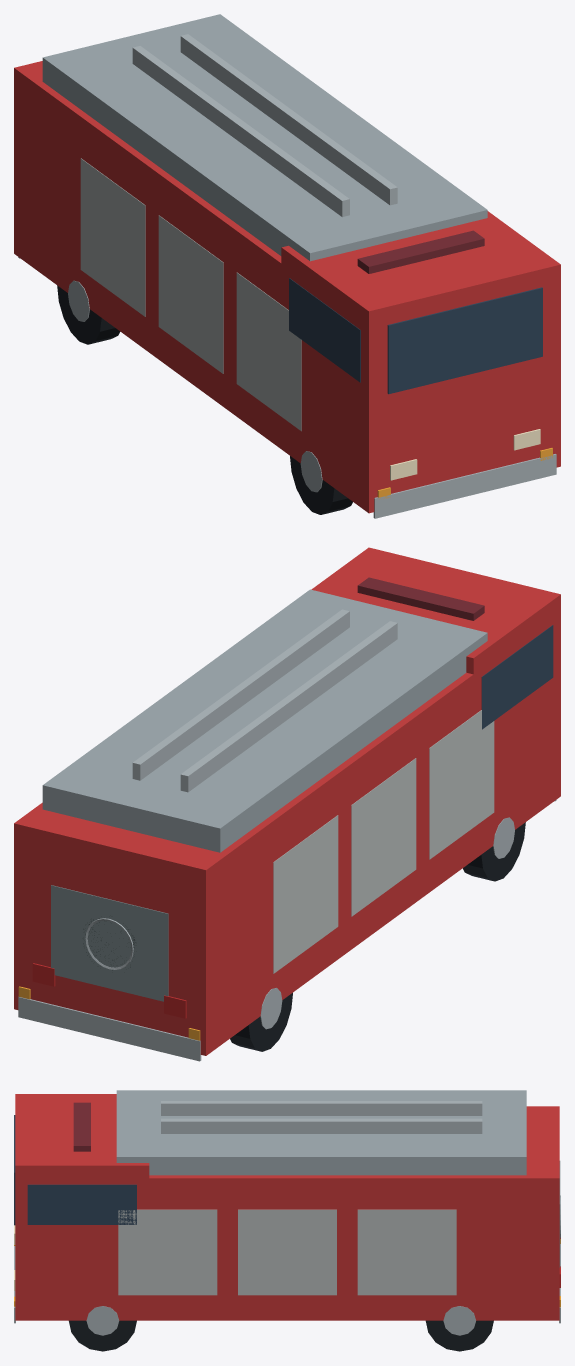
The model's file is npc_fire_engine_lod1.glb.
The picture shows the model from 3 angles, top to bottom: view 1: azimuth 30°, elevation 25°; view 2: azimuth 150°, elevation 25°; view 3: azimuth 270°, elevation 25°; orthographic projection. The views are drawn at different scales.
Parts seen in each view (by area): view 1: body, equipment_deck, cab, windshield, shutter_1_R, shutter_2_R, shutter_0_R, ladder_rail_L, ladder_rail_R, front_bumper, crew_glass_R, beacon_bar (+4 smaller); view 2: body, equipment_deck, cab, hose_recess, shutter_2_R, shutter_1_R, shutter_0_R, ladder_rail_L, ladder_rail_R, rear_bumper, crew_glass_R, beacon_bar (+4 smaller); view 3: body, equipment_deck, cab, shutter_2_L, shutter_1_L, shutter_0_L, ladder_rail_L, ladder_rail_R, crew_glass_L, wheel_R_L_tire, wheel_F_L_tire, beacon_bar (+2 smaller).
Part boxes in pixels (x1,y1,x2,y2): body: (14, 61, 560, 513); equipment_deck: (42, 14, 487, 261); cab: (281, 211, 560, 512); windshield: (387, 287, 542, 394); shutter_1_R: (158, 215, 223, 373); shutter_2_R: (80, 158, 145, 316); shutter_0_R: (236, 272, 301, 431); ladder_rail_L: (180, 34, 397, 205); ladder_rail_R: (132, 46, 349, 216); front_bumper: (373, 454, 556, 518); crew_glass_R: (289, 278, 360, 382); beacon_bar: (357, 230, 484, 273); body: (14, 611, 560, 1055); equipment_deck: (42, 589, 487, 852); cab: (311, 547, 560, 859); hose_recess: (51, 885, 168, 1001); shutter_2_R: (273, 815, 338, 973); shutter_1_R: (351, 758, 416, 916); shutter_0_R: (429, 710, 494, 859); ladder_rail_L: (132, 609, 349, 780); ladder_rail_R: (180, 621, 397, 792); rear_bumper: (18, 997, 201, 1061); crew_glass_R: (481, 625, 553, 729); beacon_bar: (357, 577, 484, 620); body: (15, 1106, 559, 1320); equipment_deck: (116, 1090, 526, 1175); cab: (15, 1094, 149, 1320); shutter_2_L: (357, 1209, 456, 1295); shutter_1_L: (238, 1209, 336, 1295); shutter_0_L: (118, 1209, 217, 1295); ladder_rail_L: (161, 1118, 482, 1133); ladder_rail_R: (161, 1101, 482, 1115); crew_glass_L: (27, 1184, 136, 1224); wheel_R_L_tire: (425, 1320, 493, 1351); wheel_F_L_tire: (69, 1320, 136, 1351); beacon_bar: (73, 1102, 90, 1151).
Size of the model in its own units: 2.5 by 3.3 by 8.
